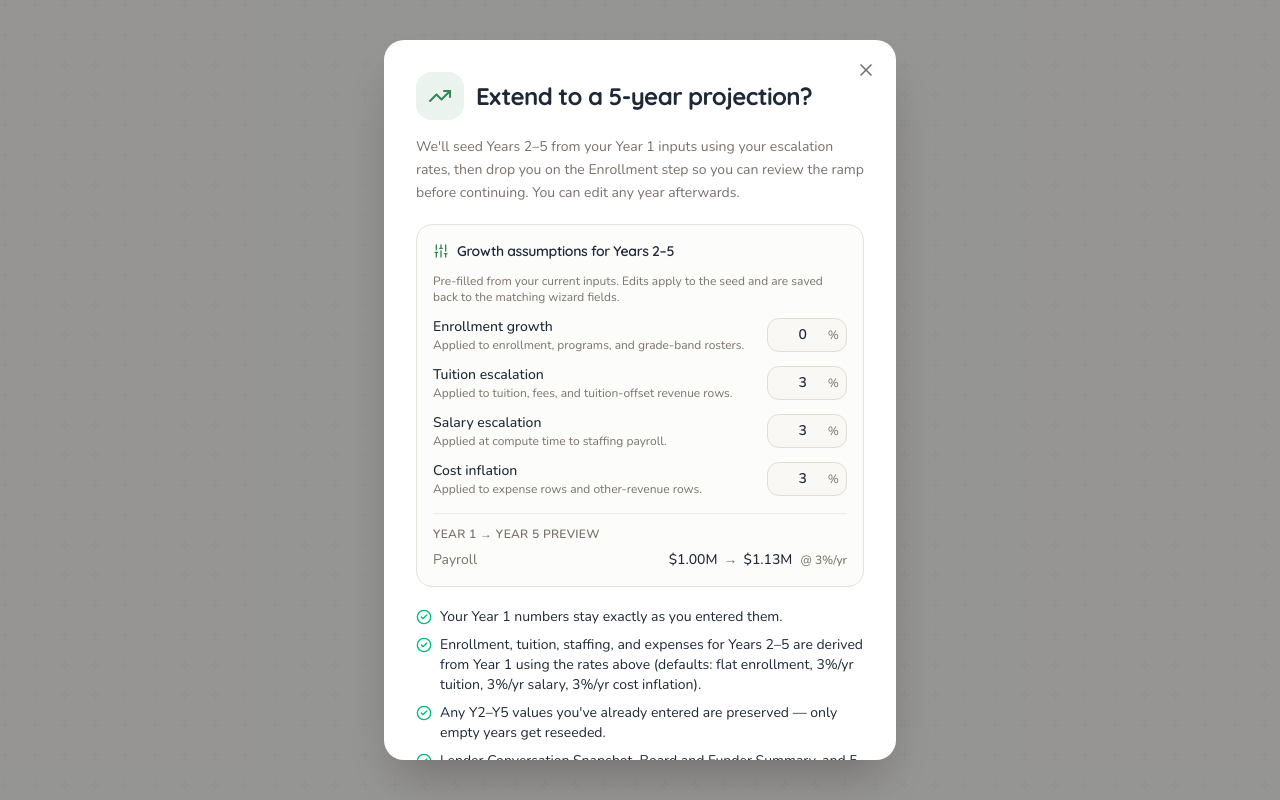
Scenario: ExtendToFiveYearModal › updates the payroll preview when salary rate is edited
The width and height of the screenshot is (1280, 800).
Expected: the text with test id "extend-preview-payroll-y5" reads "$1.13M", [744,550,792,569]
Replace the text in the number field with test id "extend-rate-salary" with "6" at (807, 431), box [767,414,847,448]
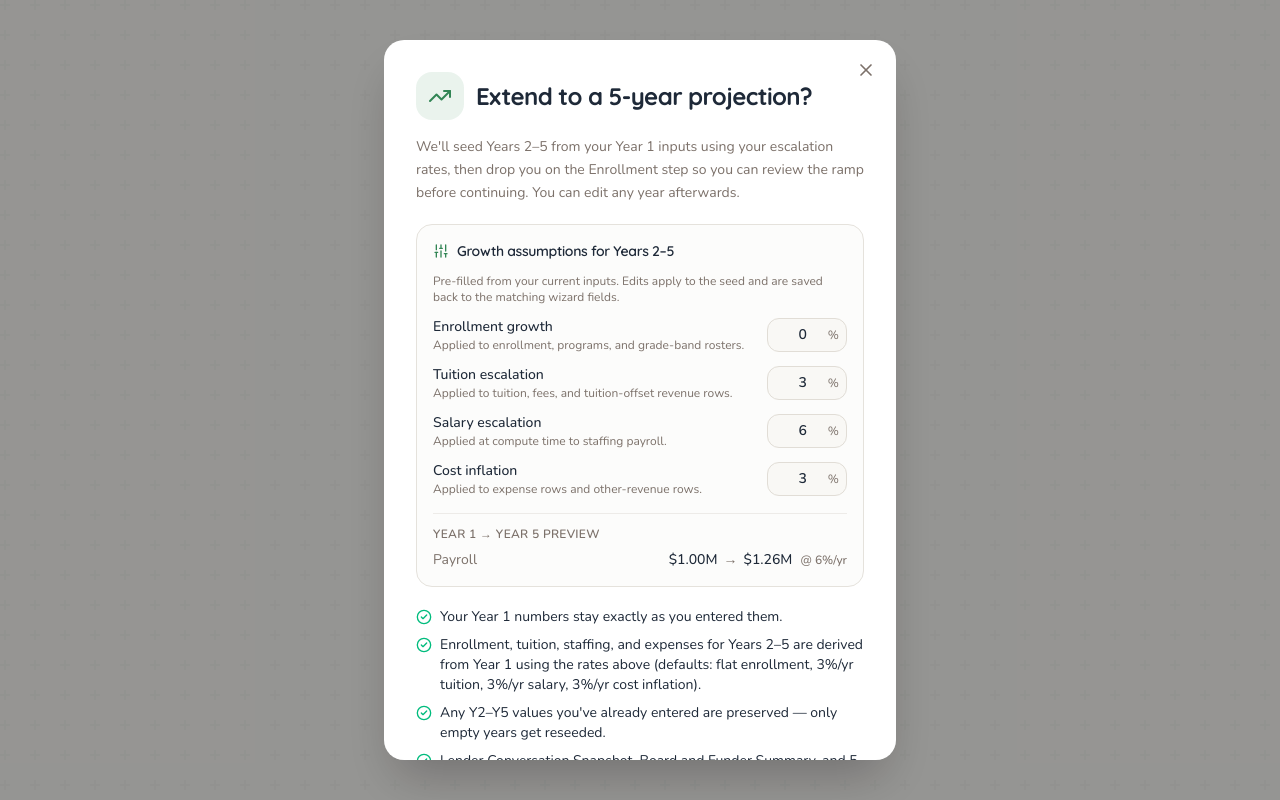
Expected: the text with test id "extend-preview-payroll-y5" reads "$1.26M", [744,550,792,569]
